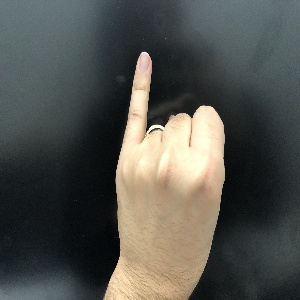hand: (116, 51, 225, 270)
